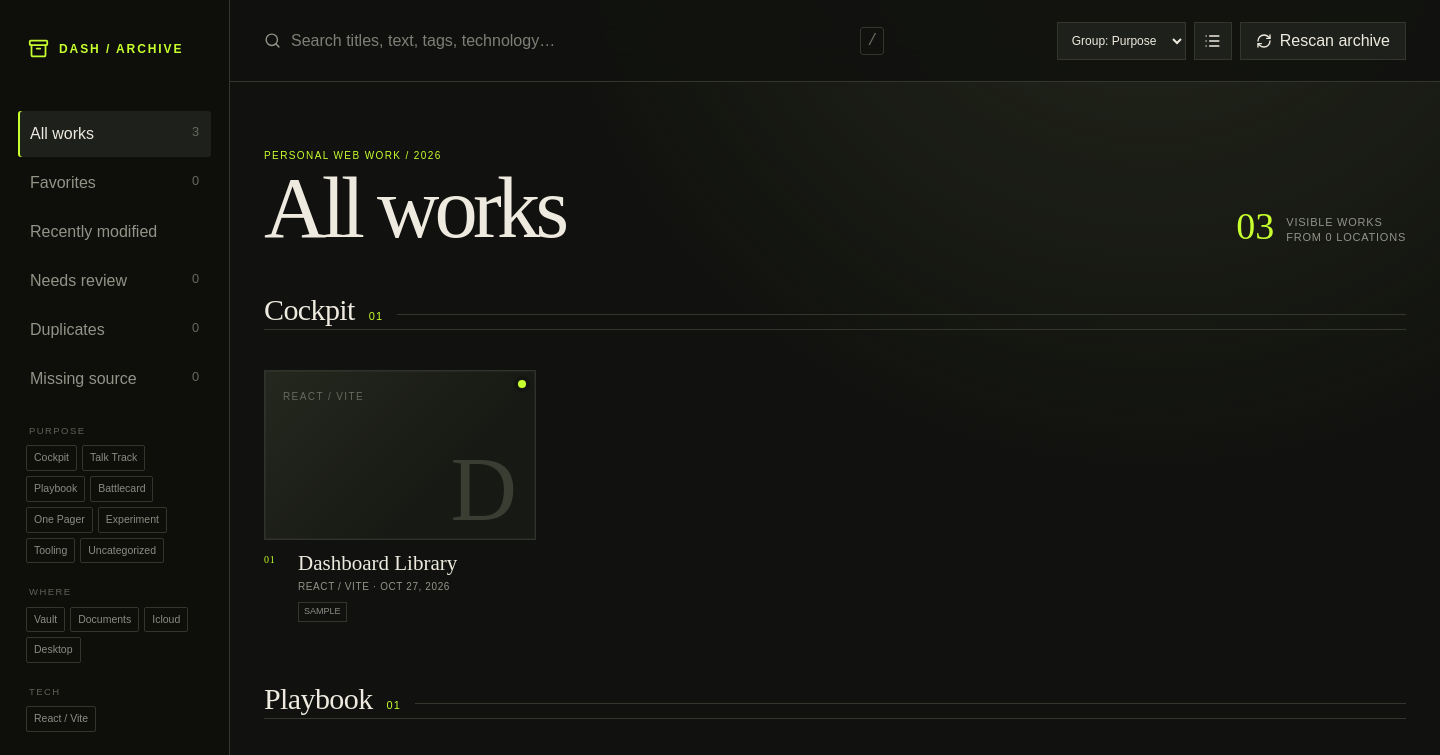
Test: dashboard archive interface › ORs multiple chips selected within the same facet group
Expected: the button "Dashboard Library" is shown, [298, 552, 457, 574]
What coordinates should you click on to do the following:
click the button "Cockpit"
I would click on:
 (52, 458)
Its box is [26, 445, 77, 471].
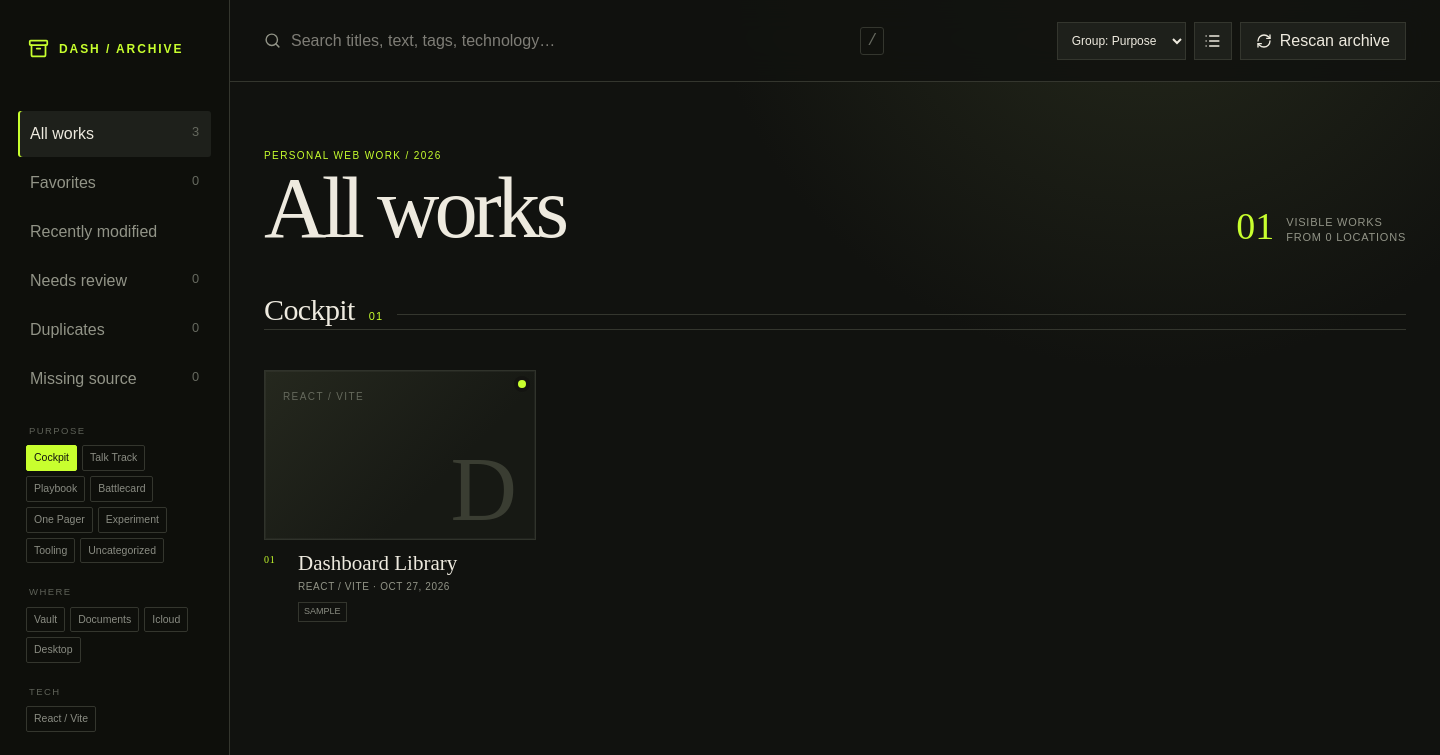
What coordinates should you click on to do the following:
click the button "Playbook"
I would click on:
 (56, 489)
Its box is [26, 476, 85, 502].
(page scrolled)
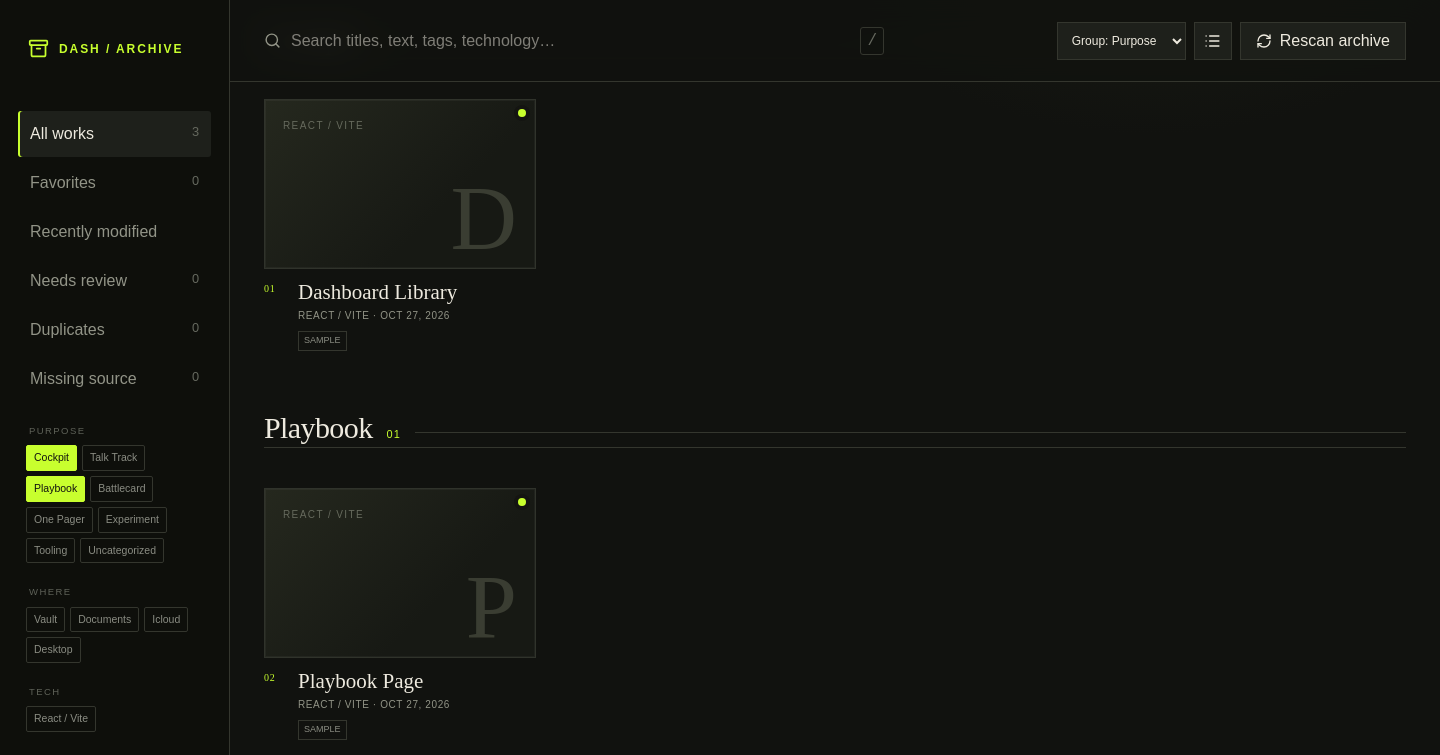
Expected: the button "Dashboard Library" is shown, [298, 281, 457, 303]
Result: the button "Playbook Page" is shown at [298, 670, 423, 692]
